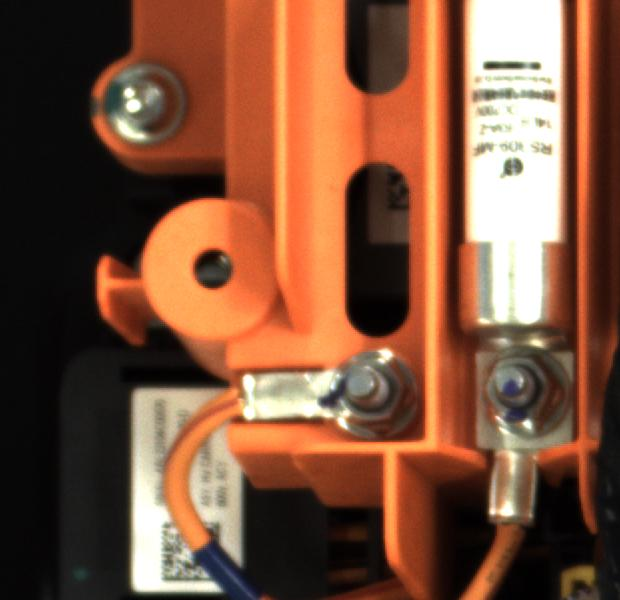screw_m: (94, 62, 204, 152)
screw_s: (311, 347, 432, 437), (472, 341, 568, 432)
